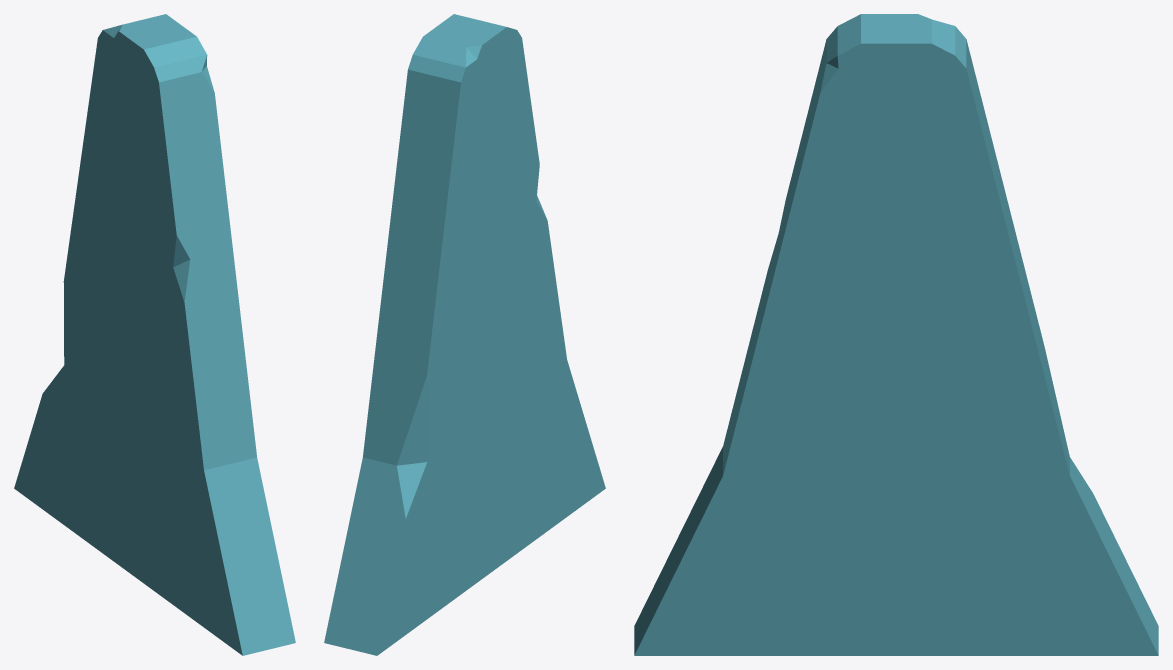
Rendered from SM_Bld_Stone_Wall_Large_End_01.glb.
The picture shows the model from 3 angles, left to right: view 1: azimuth 30°, elevation 25°; view 2: azimuth 150°, elevation 25°; view 3: azimuth 270°, elevation 25°; orthographic projection. The views are drawn at different scales.
Visible parts, largest first — view 1: SM_Bld_Stone_Wall_Large_End_01; view 2: SM_Bld_Stone_Wall_Large_End_01; view 3: SM_Bld_Stone_Wall_Large_End_01.
Part boxes in pixels (x1=…): SM_Bld_Stone_Wall_Large_End_01: x1=14, y1=14, x2=295, y2=655; SM_Bld_Stone_Wall_Large_End_01: x1=324, y1=14, x2=605, y2=655; SM_Bld_Stone_Wall_Large_End_01: x1=634, y1=14, x2=1158, y2=655.
Bounding box in the file's own units: 0.00826 × 0.0793 × 0.0616.
